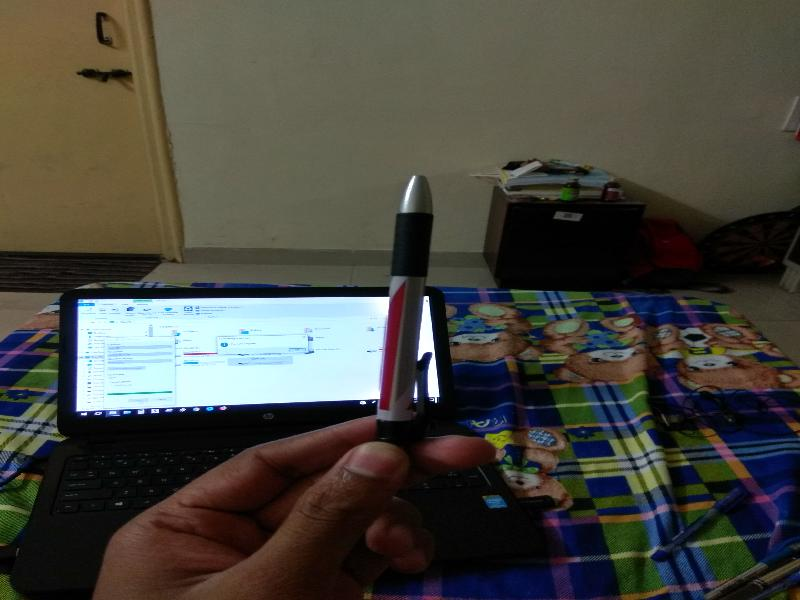pen: (371, 168, 448, 473)
